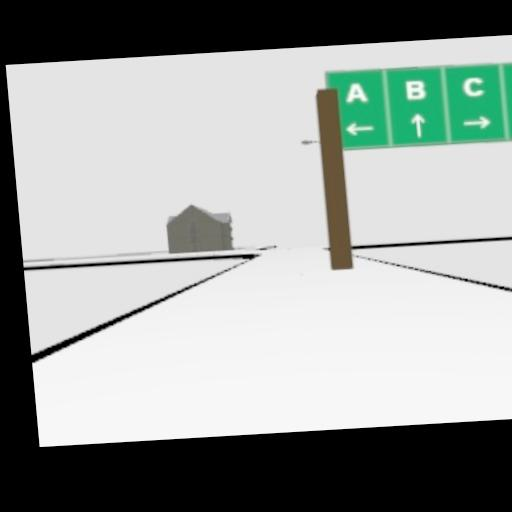A: (345, 81, 367, 104)
B: (405, 80, 425, 100)
C: (462, 76, 484, 97)
Left: (343, 121, 373, 136)
Right: (462, 114, 491, 129)
Straight: (409, 112, 426, 137)
